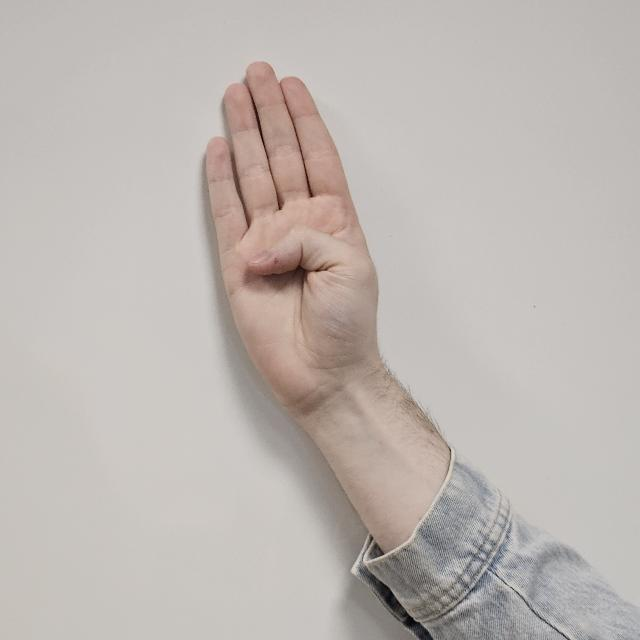Baixo: (172, 58, 410, 414)
